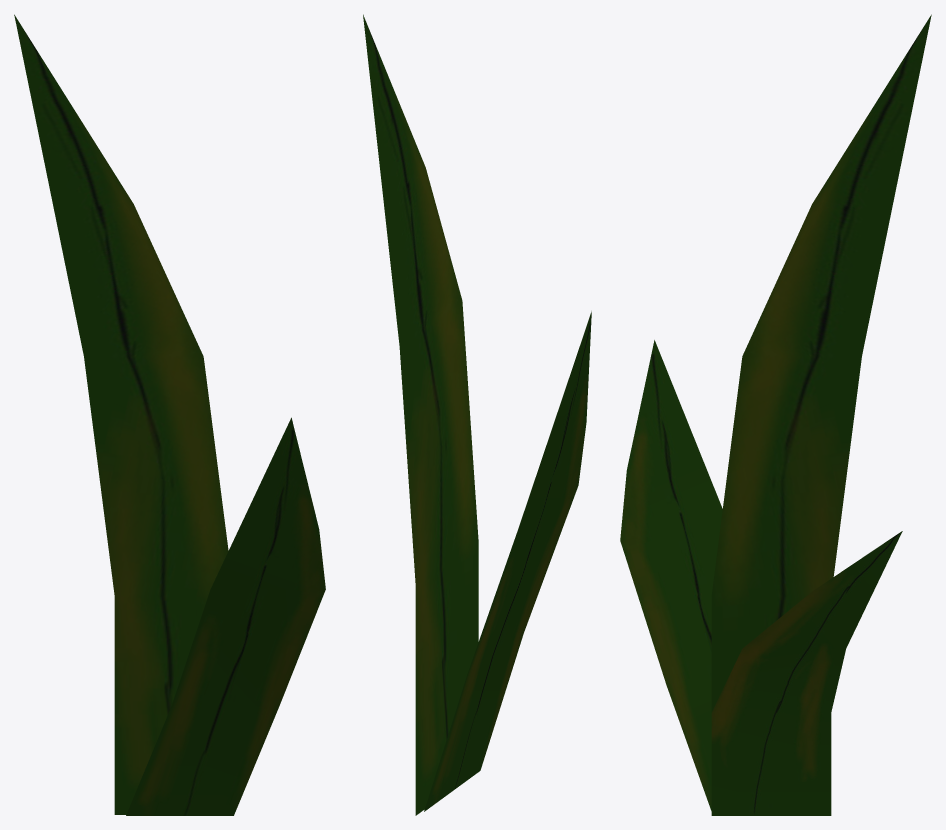
The model's file is Asset_Grass2_Mesh.fbx.
3 renders of one model, left to right at view 1: azimuth 90°, elevation 25°; view 2: azimuth 150°, elevation 25°; view 3: azimuth 270°, elevation 25°, orthographic. The views are drawn at different scales.
Parts seen in each view (by area): view 1: Asset_Grass2; view 2: Asset_Grass2; view 3: Asset_Grass2.
Part boxes in pixels (left/top/right/bottom): Asset_Grass2: left=14, top=14, right=325, bottom=815; Asset_Grass2: left=363, top=14, right=591, bottom=815; Asset_Grass2: left=620, top=14, right=931, bottom=815.
Bounding box in the file's own units: 0.0225 × 0.1684 × 0.0594.
